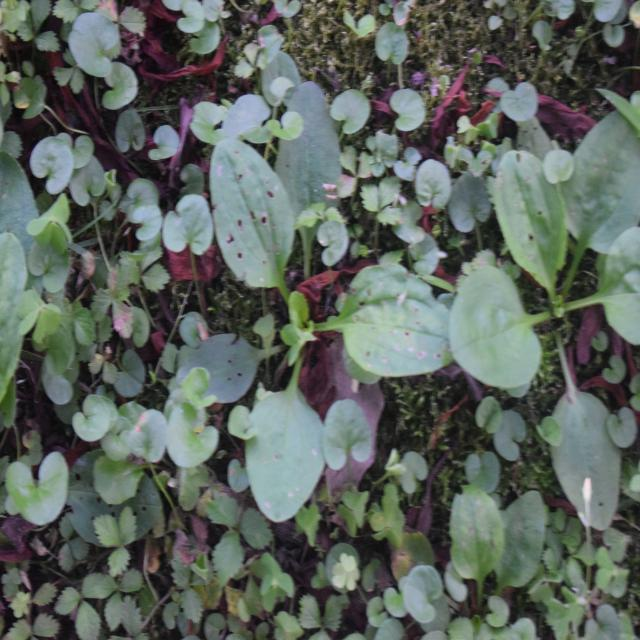plantain: (198, 86, 454, 506)
